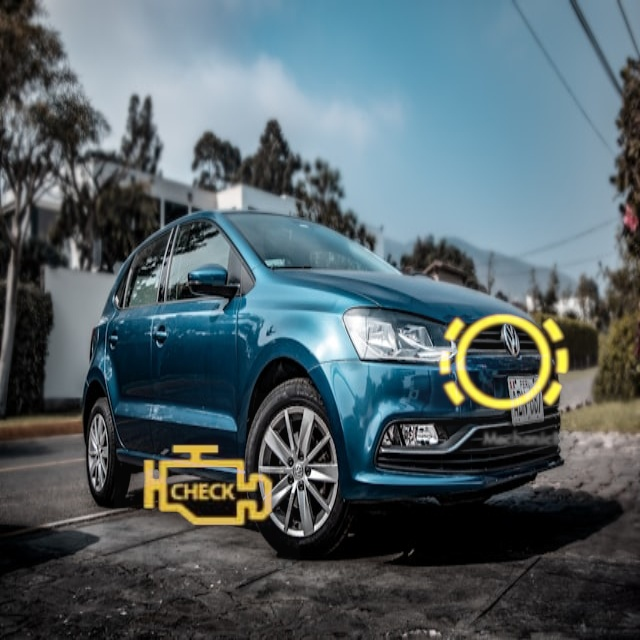symbol: (114, 393, 300, 579), (412, 272, 594, 454)
